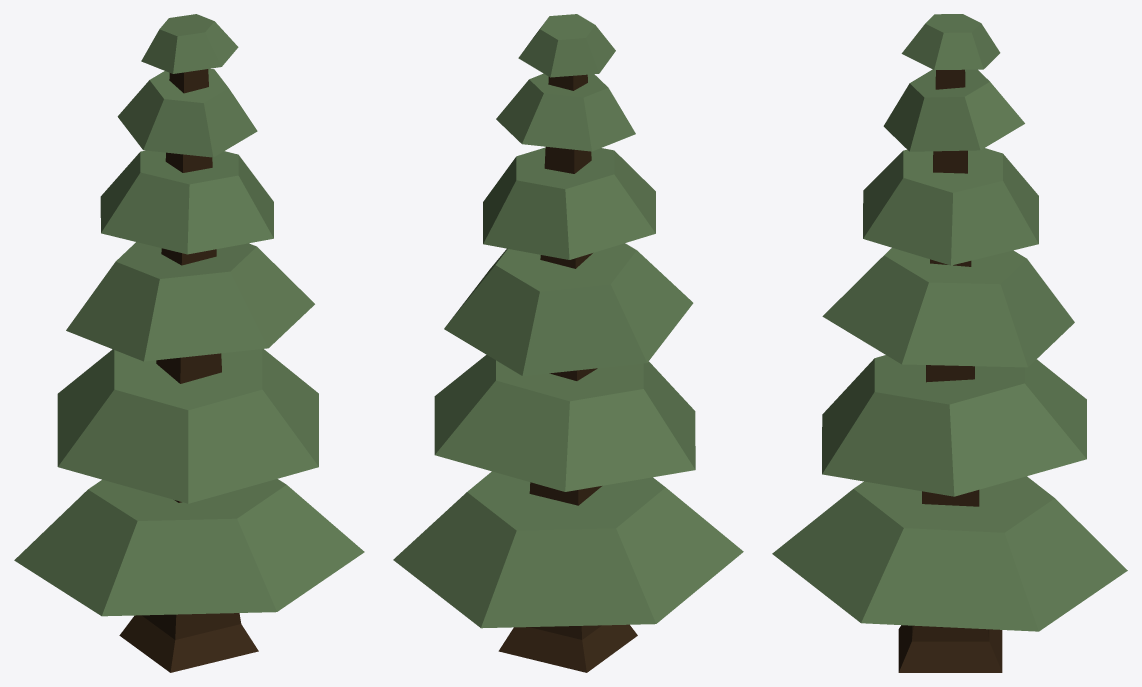
File: pine.glb
3 views of the same model, side by side, from view 1: azimuth 30°, elevation 25°; view 2: azimuth 150°, elevation 25°; view 3: azimuth 270°, elevation 25° (orthographic).
Parts seen in each view (by area): view 1: tree_pineRoundB; view 2: tree_pineRoundB; view 3: tree_pineRoundB.
Part boxes in pixels (box(x1,y1,x2,y2)): tree_pineRoundB: box(14, 14, 364, 672); tree_pineRoundB: box(393, 14, 743, 672); tree_pineRoundB: box(772, 14, 1127, 672).
Size of the model in its own units: 0.5322 by 1.2 by 0.6132.
